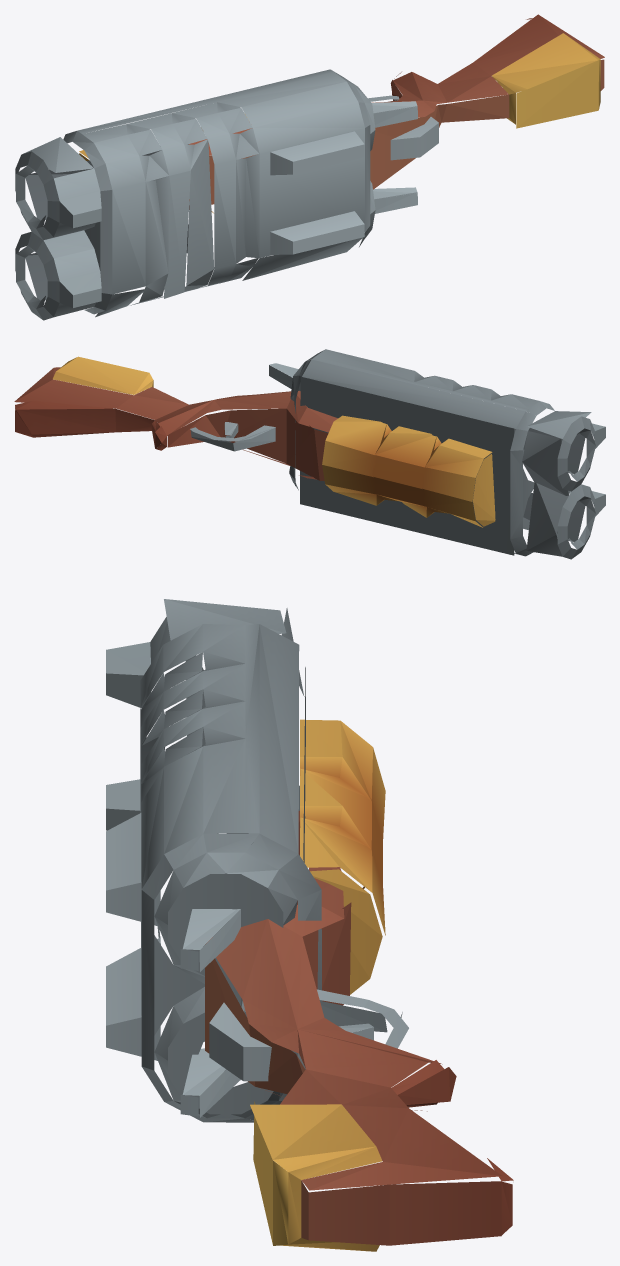
The model's file is engineer_sword_t1.glb.
3 renders of one model, top to bottom at view 1: azimuth 30°, elevation 25°; view 2: azimuth 150°, elevation 25°; view 3: azimuth 270°, elevation 25°, orthographic. The views are drawn at different scales.
Visible parts, largest first — view 1: engineer_sword_t1__handslot_r; view 2: engineer_sword_t1__handslot_r; view 3: engineer_sword_t1__handslot_r.
Part boxes in pixels (x1,y1,x2,y2): engineer_sword_t1__handslot_r: (15,14,604,320); engineer_sword_t1__handslot_r: (14,349,605,559); engineer_sword_t1__handslot_r: (106,599,513,1251).
Bounding box in the file's own units: 1.68 × 0.4649 × 0.584.
1 material, 1 textured.
